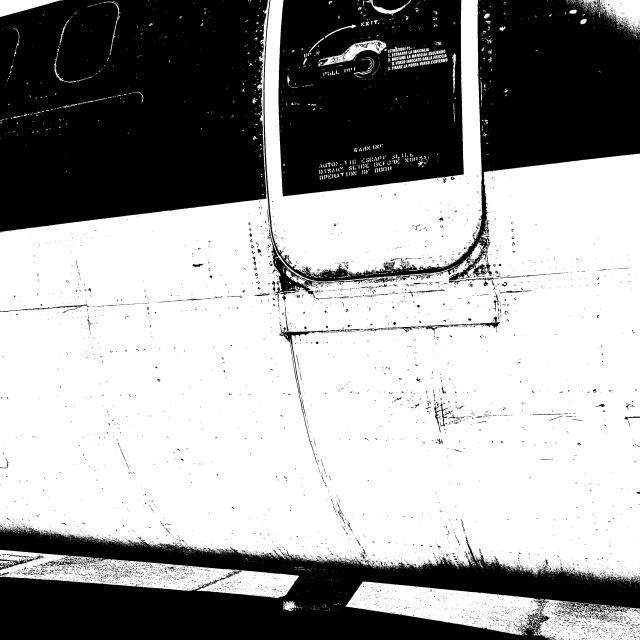crack: (60, 307, 91, 316)
